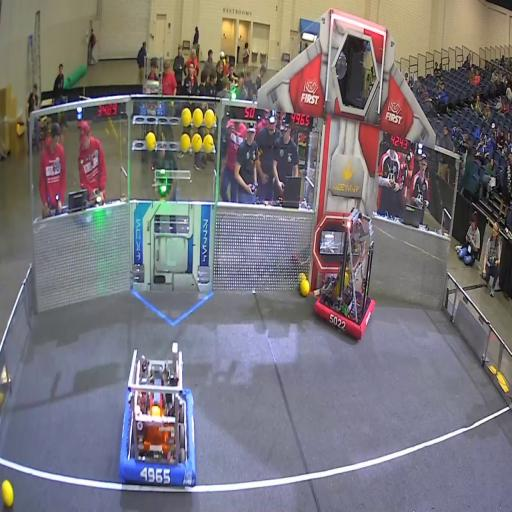robot: (121, 344, 196, 487), (314, 212, 376, 339)
